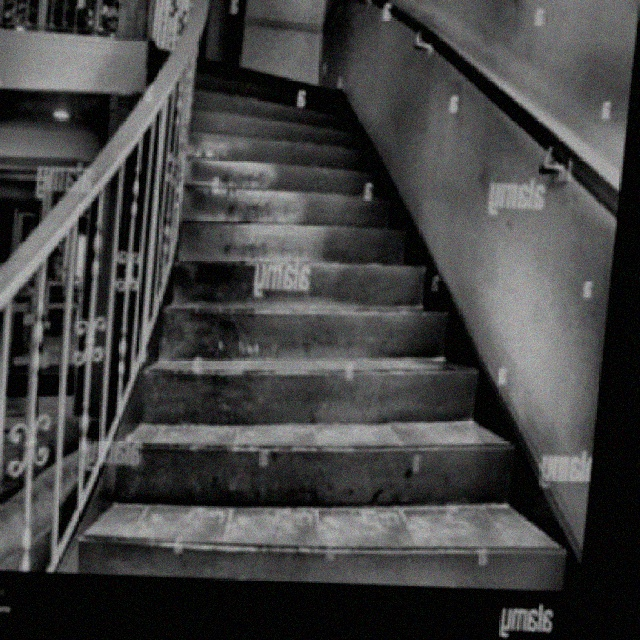stair: (80, 48, 617, 594)
